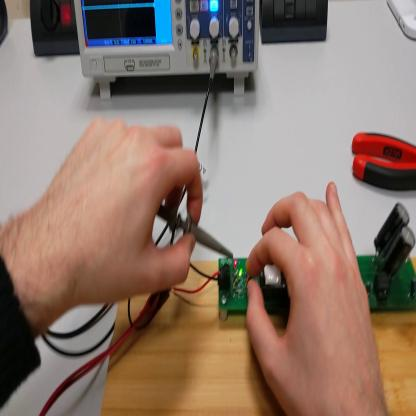hand: (245, 181, 386, 412), (45, 118, 205, 303)
high voltage board: (173, 206, 416, 316)
oscilloscope: (75, 1, 259, 106)
oscilloscope probe tip: (158, 208, 235, 262)
pliers: (351, 129, 416, 192)
socket: (28, 1, 81, 60), (2, 2, 9, 47)
working area: (99, 256, 415, 415)
